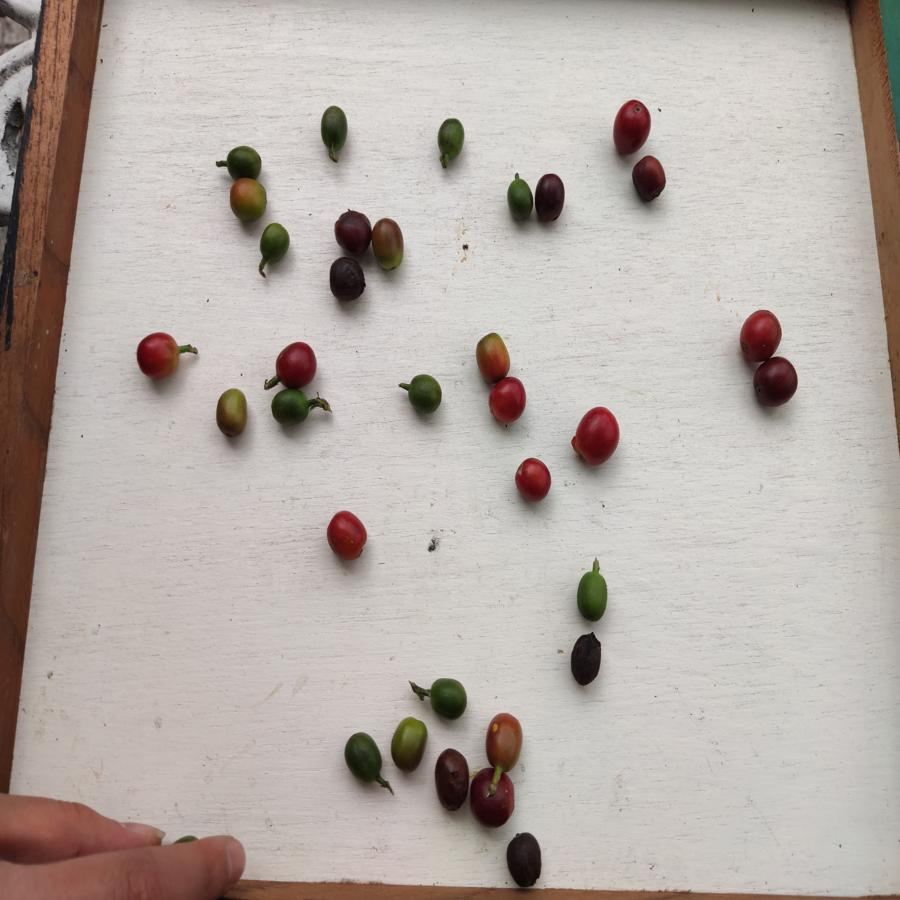Inmaduro: (343, 728, 385, 787), (429, 677, 471, 723), (271, 388, 318, 429), (574, 570, 609, 622), (400, 372, 443, 412), (317, 102, 350, 150), (435, 116, 465, 160), (505, 175, 533, 222), (260, 222, 290, 263), (226, 145, 263, 178)
Maduro: (570, 404, 620, 467), (325, 508, 369, 563), (738, 305, 782, 359), (271, 340, 321, 387), (135, 333, 182, 380), (613, 97, 650, 154), (488, 378, 526, 423), (514, 458, 551, 501)
Pinton: (486, 710, 522, 772), (390, 718, 428, 772), (371, 218, 408, 271), (228, 177, 269, 223), (475, 331, 512, 378), (215, 386, 248, 438)
Sobremaduro: (471, 768, 516, 830), (752, 359, 803, 411), (434, 748, 470, 812), (506, 830, 543, 888), (632, 157, 668, 206), (334, 209, 370, 257), (327, 257, 365, 302), (570, 631, 601, 686), (535, 172, 567, 223)
